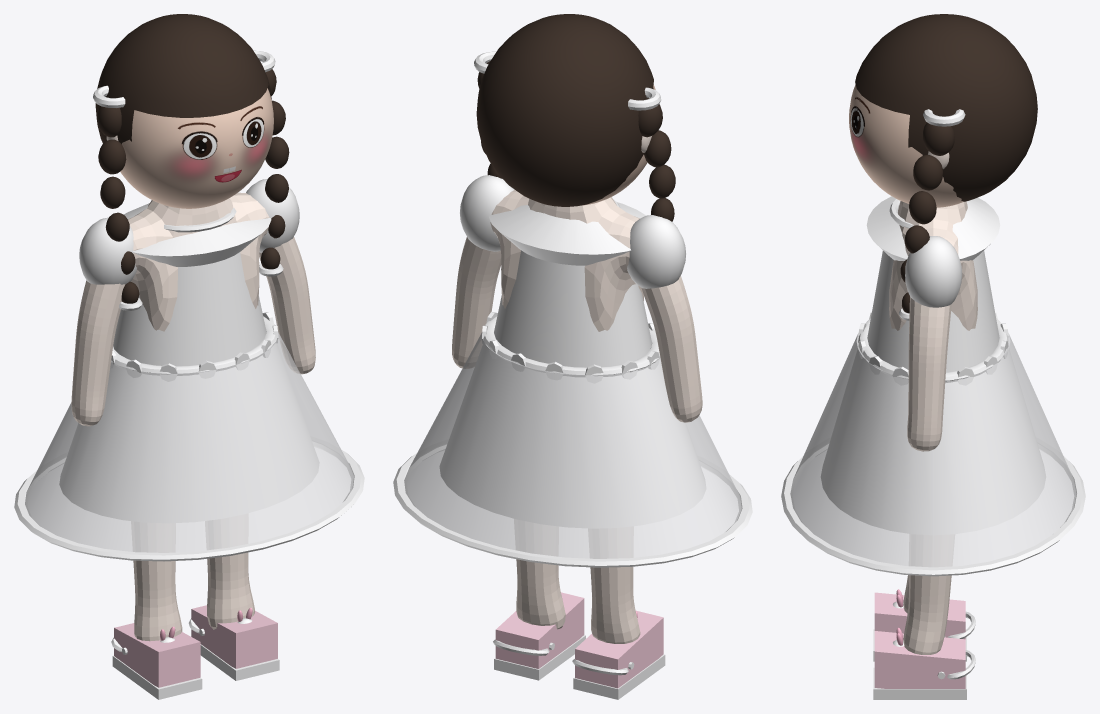
Rendered from peemai.glb.
3 renders of one model, left to right at view 1: azimuth 30°, elevation 25°; view 2: azimuth 150°, elevation 25°; view 3: azimuth 270°, elevation 25°, orthographic. The views are drawn at different scales.
Visible parts, largest first — view 1: FlaredTulleSkirt, InnerWhiteSlip, ToddlerBody, WhiteShirt, HairCap, ToddlerHead, SkirtRim, CrocShoe_R, CrocShoe_L, Sleeve_R, Sleeve_L, LaceBelt (+9 smaller); view 2: FlaredTulleSkirt, InnerWhiteSlip, HairCap, ToddlerBody, WhiteShirt, SkirtRim, CrocShoe_R, Sleeve_R, CrocShoe_L, Sleeve_L, LaceBelt, Sole_R (+4 smaller); view 3: FlaredTulleSkirt, InnerWhiteSlip, HairCap, ToddlerBody, WhiteShirt, ToddlerHead, SkirtRim, CrocShoe_L, Sleeve_L, CrocShoe_R, LaceBelt, Sole_L (+5 smaller).
Part boxes in pixels (box(x1,y1,x2,y2)): FlaredTulleSkirt: box(25, 332, 353, 552); InnerWhiteSlip: box(59, 343, 319, 522); ToddlerBody: box(71, 192, 315, 641); WhiteShirt: box(113, 203, 271, 366); HairCap: box(95, 14, 271, 143); ToddlerHead: box(120, 88, 273, 208); SkirtRim: box(14, 437, 364, 561); CrocShoe_R: box(114, 623, 200, 687); CrocShoe_L: box(191, 605, 277, 668); Sleeve_R: box(79, 217, 136, 284); Sleeve_L: box(246, 178, 299, 252); LaceBelt: box(111, 316, 278, 375); FlaredTulleSkirt: box(404, 332, 741, 558); InnerWhiteSlip: box(439, 344, 706, 528); HairCap: box(476, 14, 653, 206); ToddlerBody: box(452, 190, 702, 643); WhiteShirt: box(489, 202, 651, 367); SkirtRim: box(393, 440, 752, 567); CrocShoe_R: box(575, 610, 663, 688); Sleeve_R: box(627, 215, 685, 288); CrocShoe_L: box(495, 592, 584, 668); Sleeve_L: box(460, 175, 514, 251); LaceBelt: box(481, 316, 659, 376); Sole_R: box(573, 654, 665, 699); FlaredTulleSkirt: box(790, 323, 1076, 567); InnerWhiteSlip: box(821, 347, 1045, 534); HairCap: box(855, 14, 1037, 201); ToddlerBody: box(889, 201, 977, 654); WhiteShirt: box(866, 196, 1000, 372); ToddlerHead: box(849, 84, 963, 207); SkirtRim: box(781, 438, 1085, 576); CrocShoe_L: box(874, 631, 965, 688); Sleeve_L: box(905, 236, 962, 307); CrocShoe_R: box(874, 592, 965, 639); LaceBelt: box(858, 318, 1008, 382); Sole_L: box(873, 667, 966, 699).
Bounding box in the file's own units: 0.6974 × 1.34 × 0.5706.
8 materials, 1 textured.
